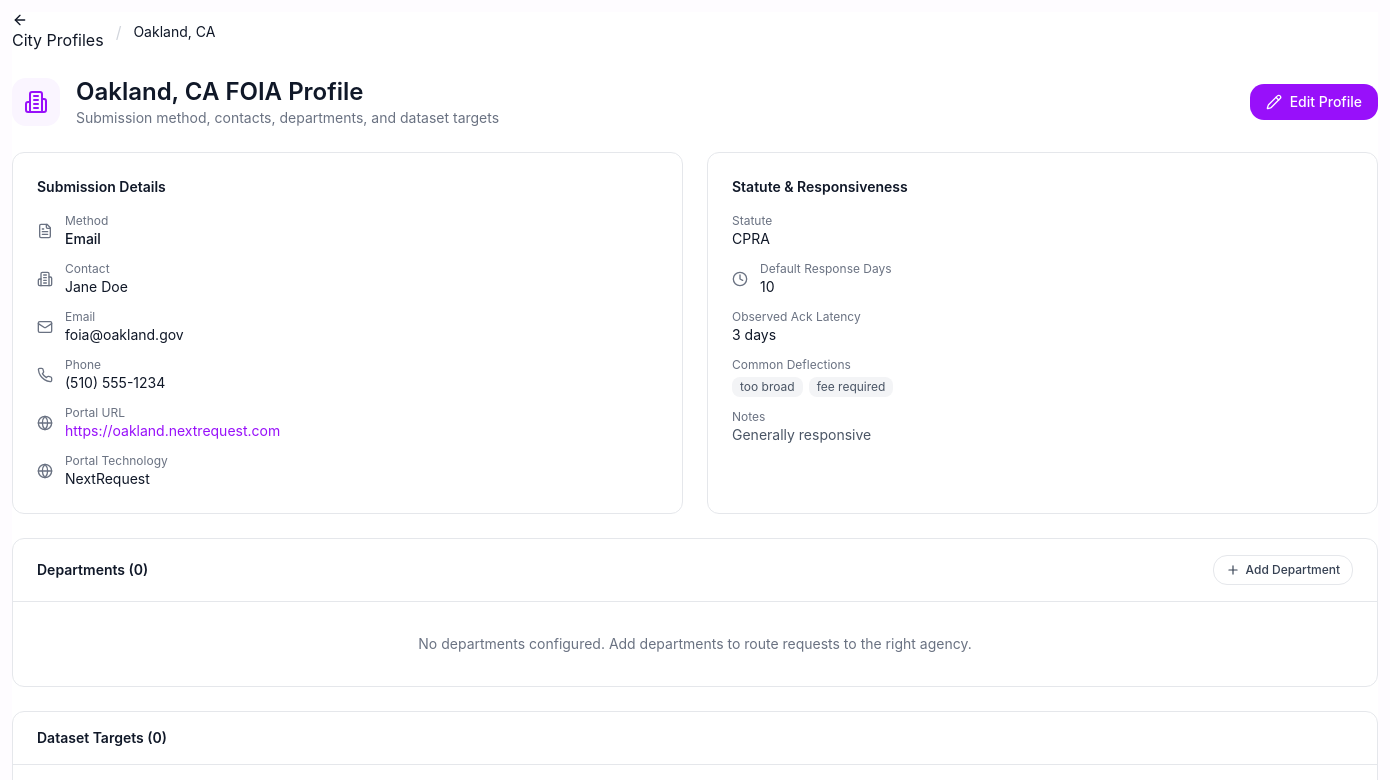
Test: CityProfileContent › shows add department form when Add Department is clicked
Expected: the text "No departments configured" is shown, left=418, top=635, right=972, bottom=652
Click the button "Add Department" at {"x": 1283, "y": 570}, box left=1212, top=555, right=1353, bottom=585
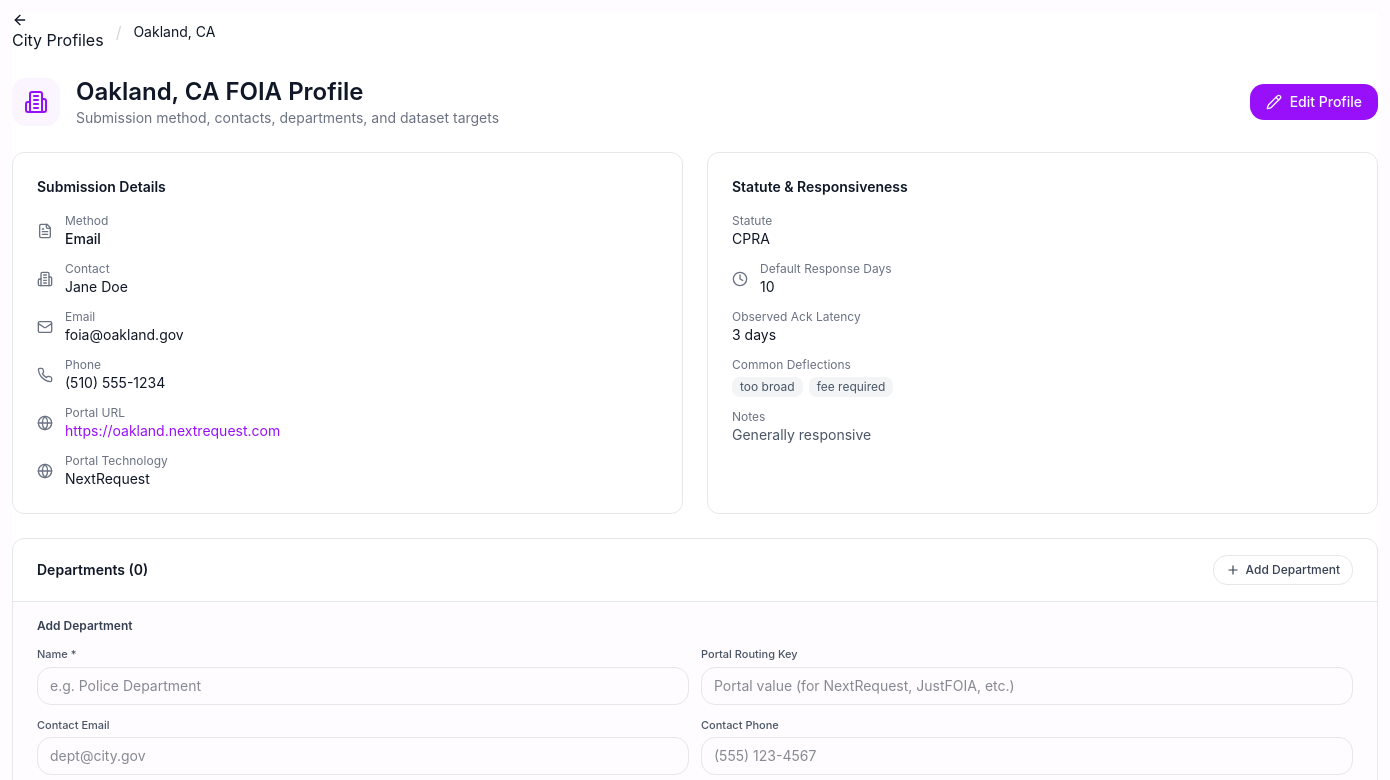
Expected: the field with placeholder "e.g. Police Department" is shown, left=37, top=666, right=689, bottom=704
Expected: the text "Name *" is shown, left=37, top=647, right=76, bottom=661
